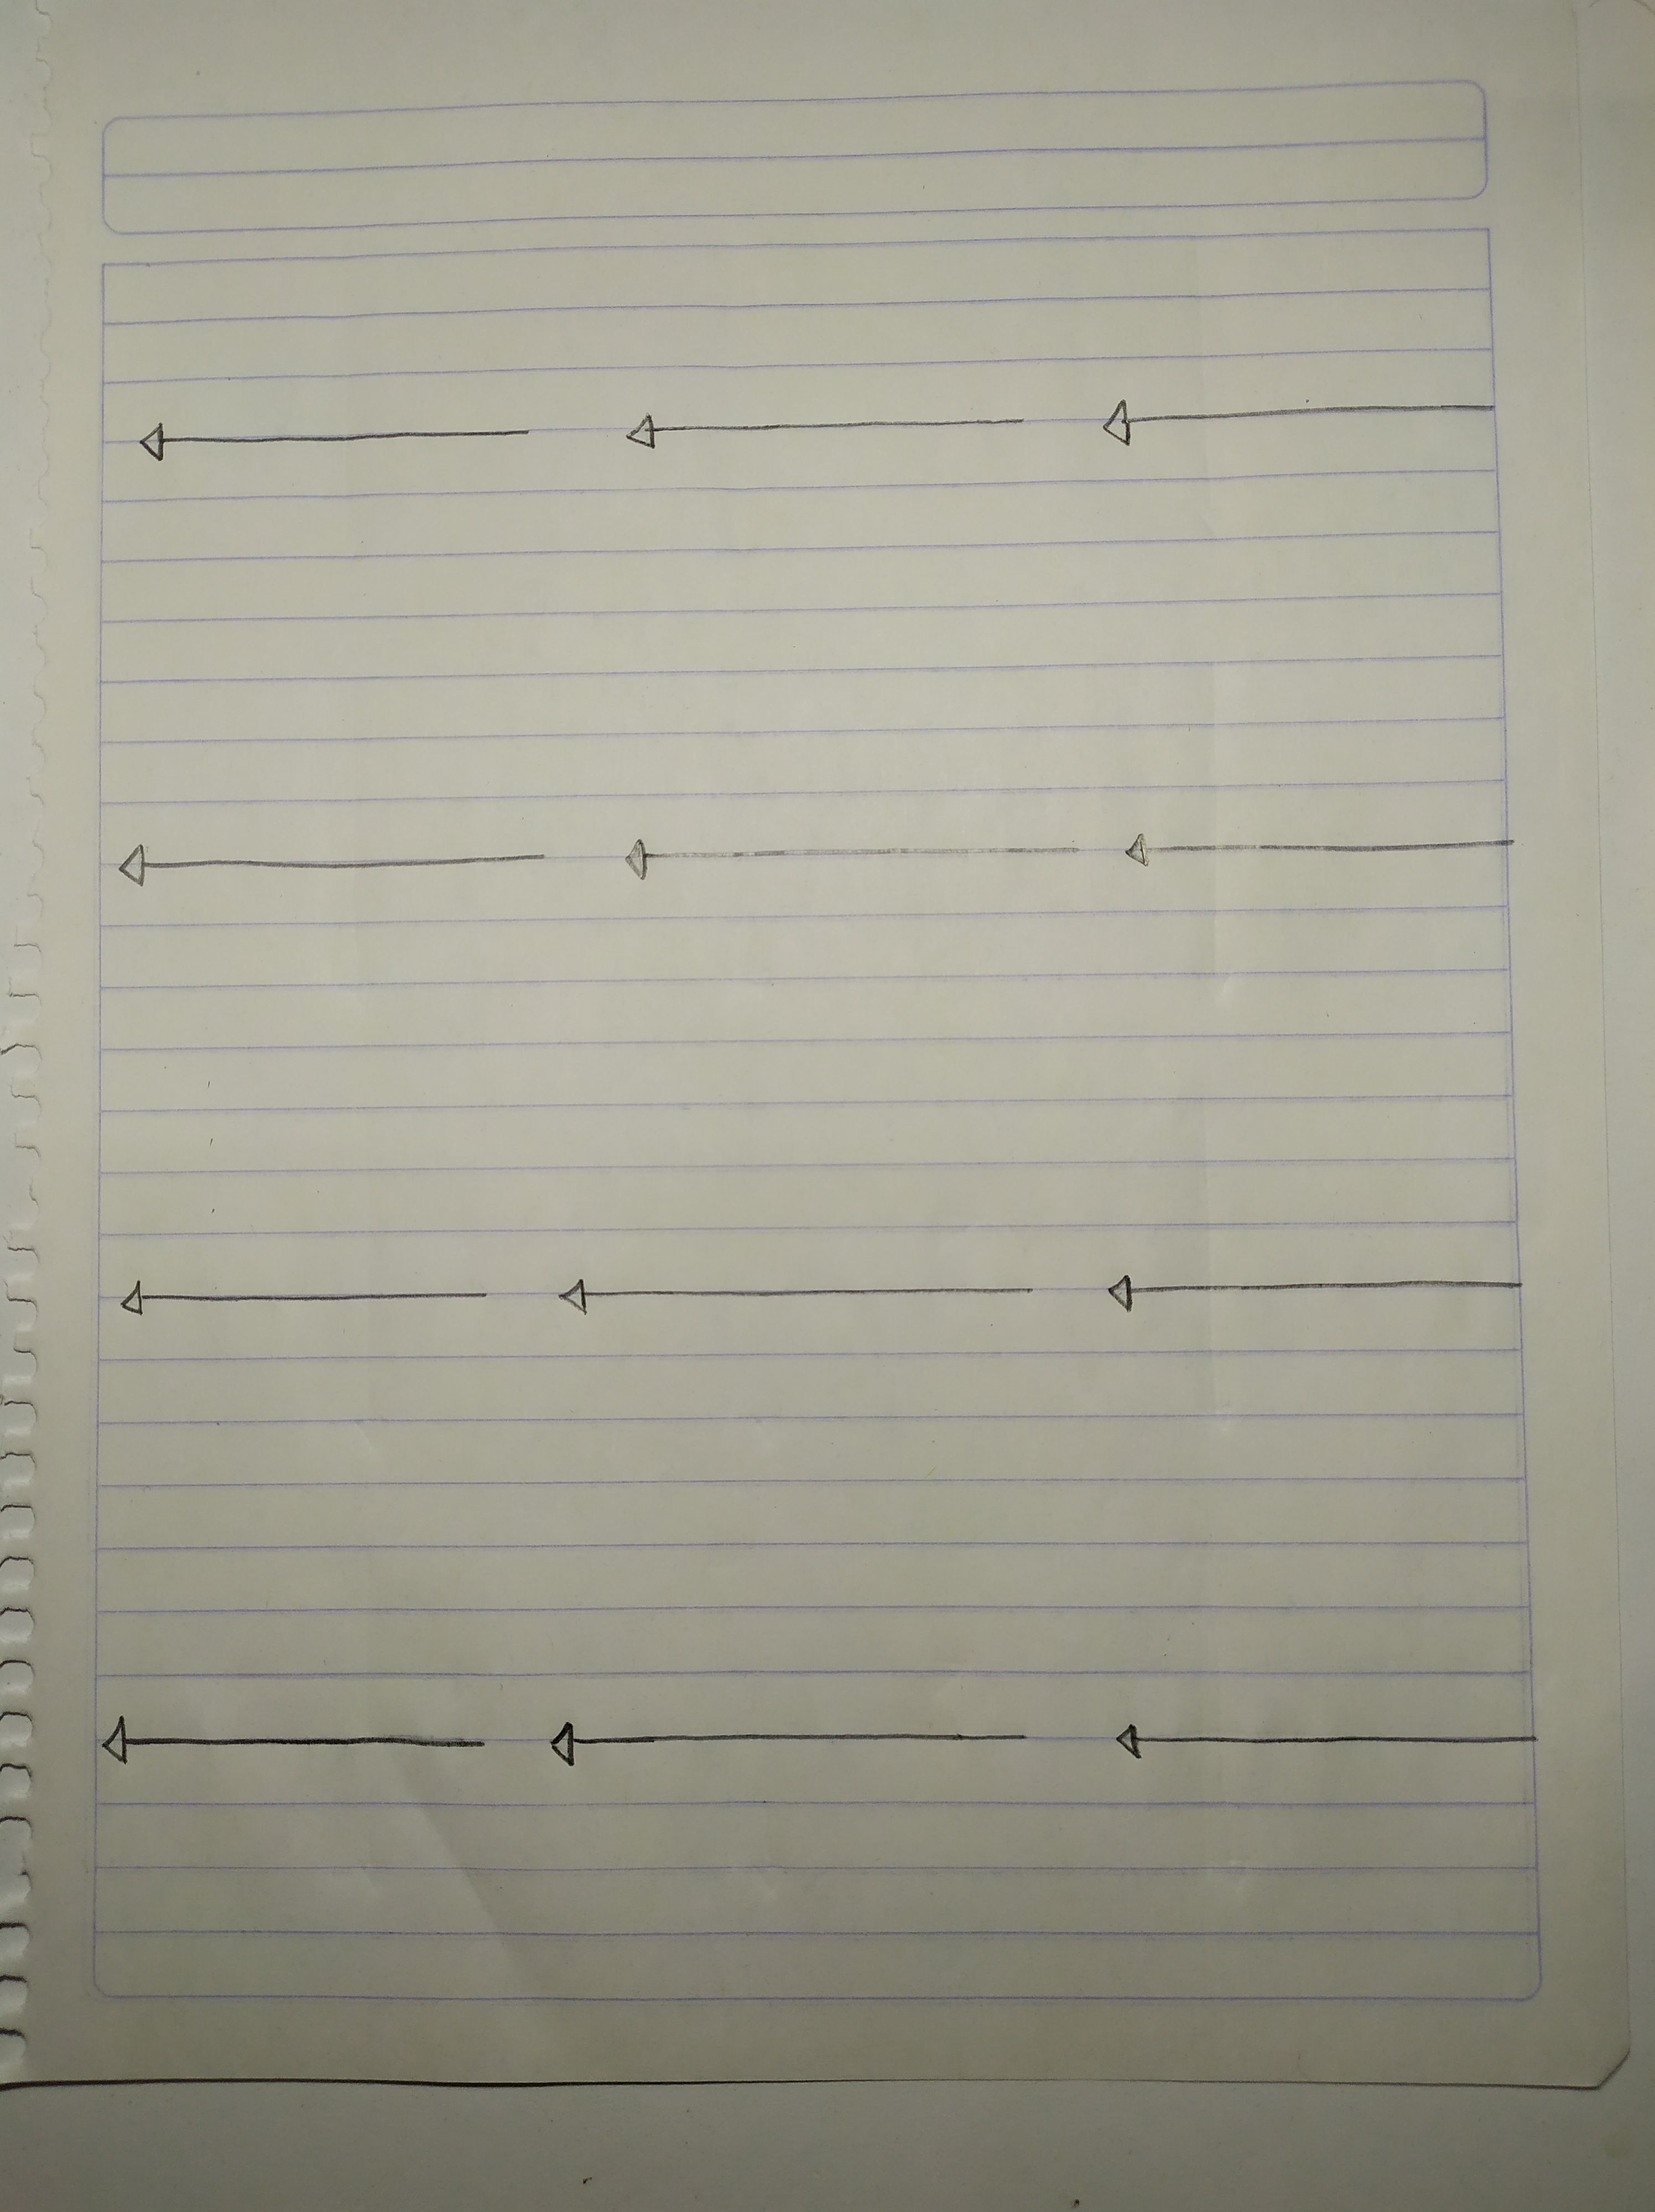arrow_line_left: (104, 389, 562, 497), (602, 815, 1099, 914), (534, 1260, 1062, 1352), (607, 394, 1048, 502), (83, 820, 567, 914), (532, 1703, 1060, 1783), (78, 1698, 509, 1795), (1085, 1710, 1558, 1795), (1113, 818, 1544, 911), (99, 1263, 518, 1355), (1090, 381, 1523, 467), (1085, 1258, 1540, 1336)
